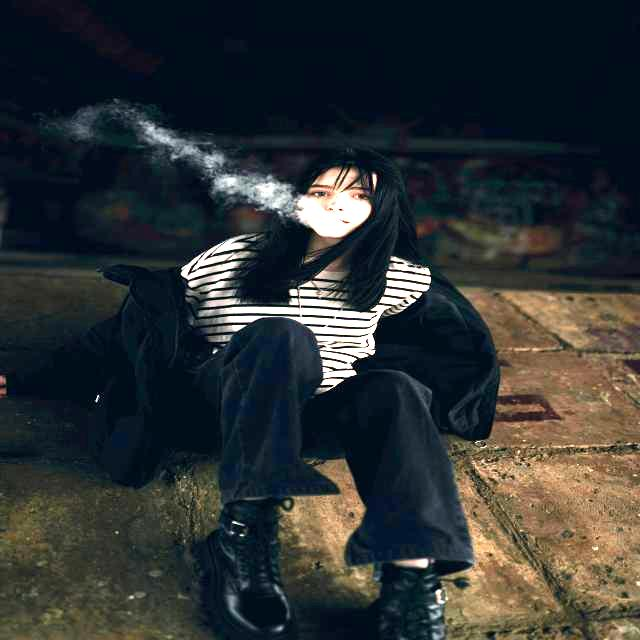no_head_wear: (296, 148, 404, 189)
person: (181, 151, 499, 640)
